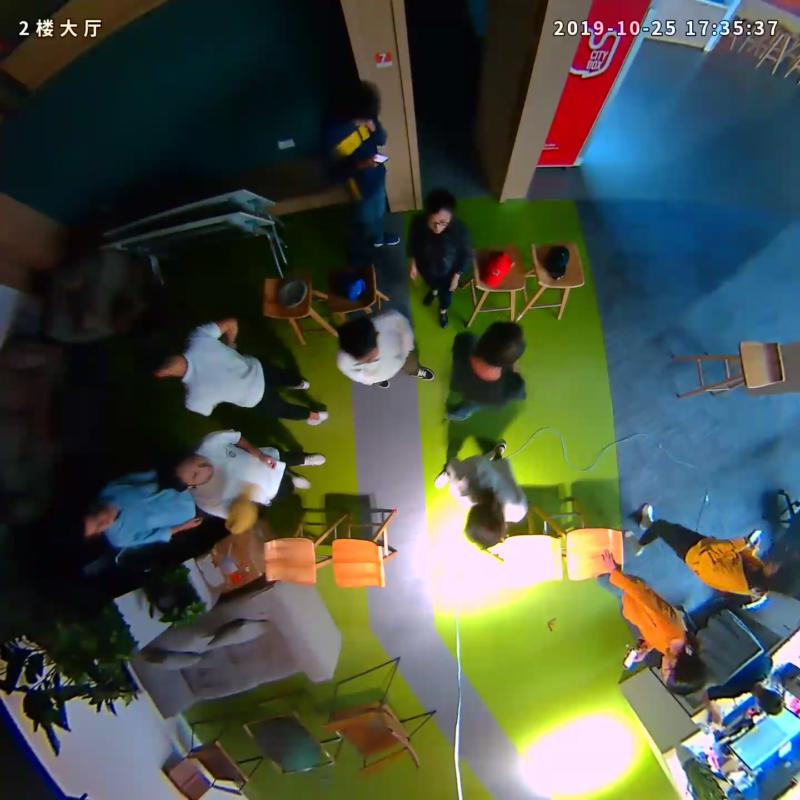head: (478, 321, 529, 367), (662, 644, 708, 694), (159, 449, 214, 490), (463, 501, 510, 548), (62, 500, 120, 538), (337, 318, 380, 363), (763, 547, 800, 596), (340, 79, 380, 123), (129, 341, 176, 378), (420, 191, 456, 236)
